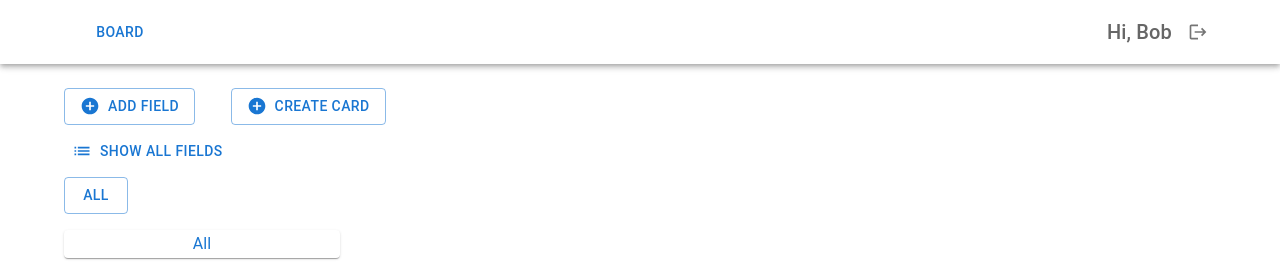
Header › should be log out
Click the button with test id "logout-btn": coordinates (1198, 32) [1180,14,1216,50]
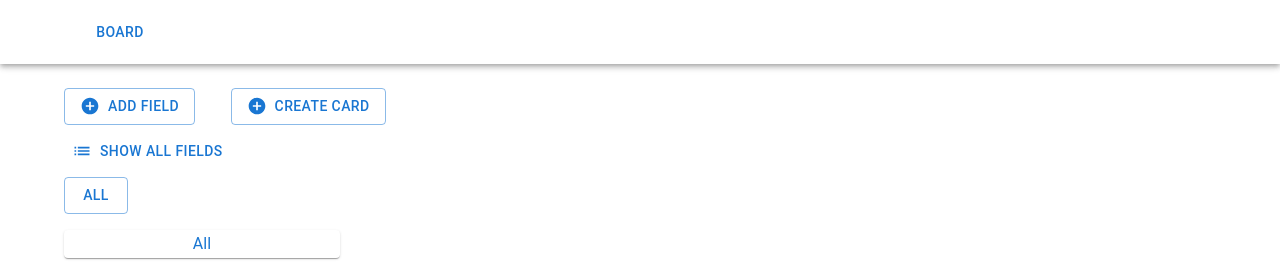
Now the heading "Bob" is gone
